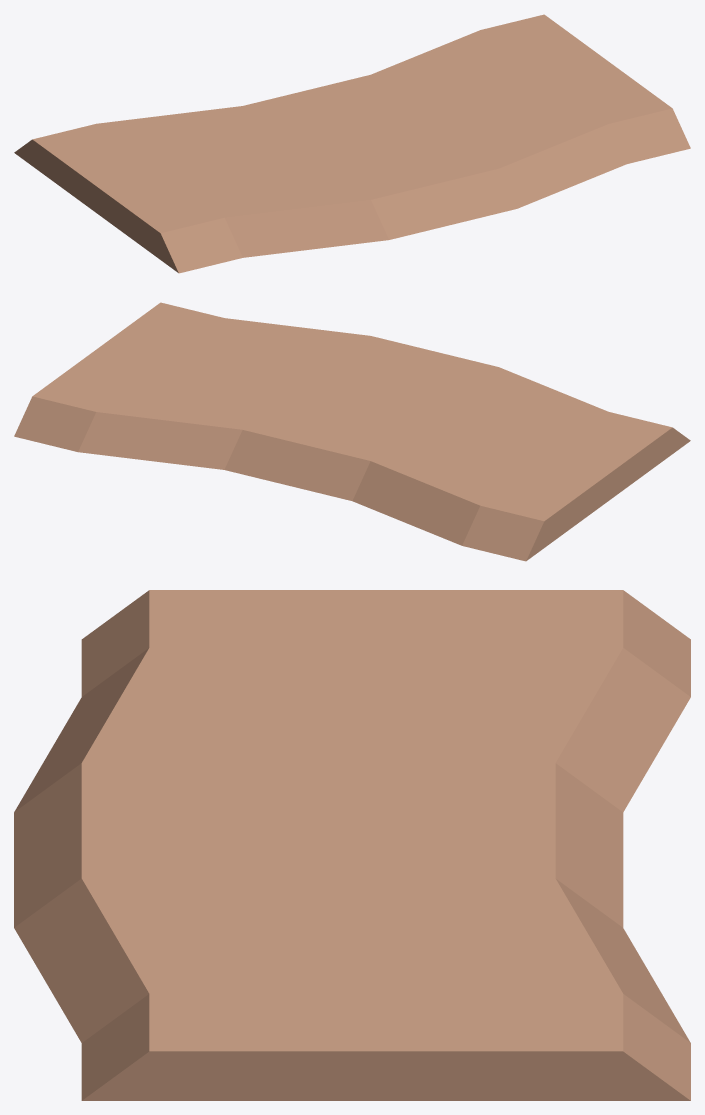
Rendered from crops_dirtRow.glb.
3 renders of one model, top to bottom at view 1: azimuth 30°, elevation 25°; view 2: azimuth 150°, elevation 25°; view 3: azimuth 270°, elevation 25°, orthographic. The views are drawn at different scales.
Parts seen in each view (by area): view 1: crops_dirtRow; view 2: crops_dirtRow; view 3: crops_dirtRow.
Boxes of the visible parts, <box> form: crops_dirtRow: <box>14,14,690,273</box>; crops_dirtRow: <box>14,302,690,561</box>; crops_dirtRow: <box>14,590,690,1100</box>.
Size of the model in its own units: 1 by 0.05 by 0.62.
